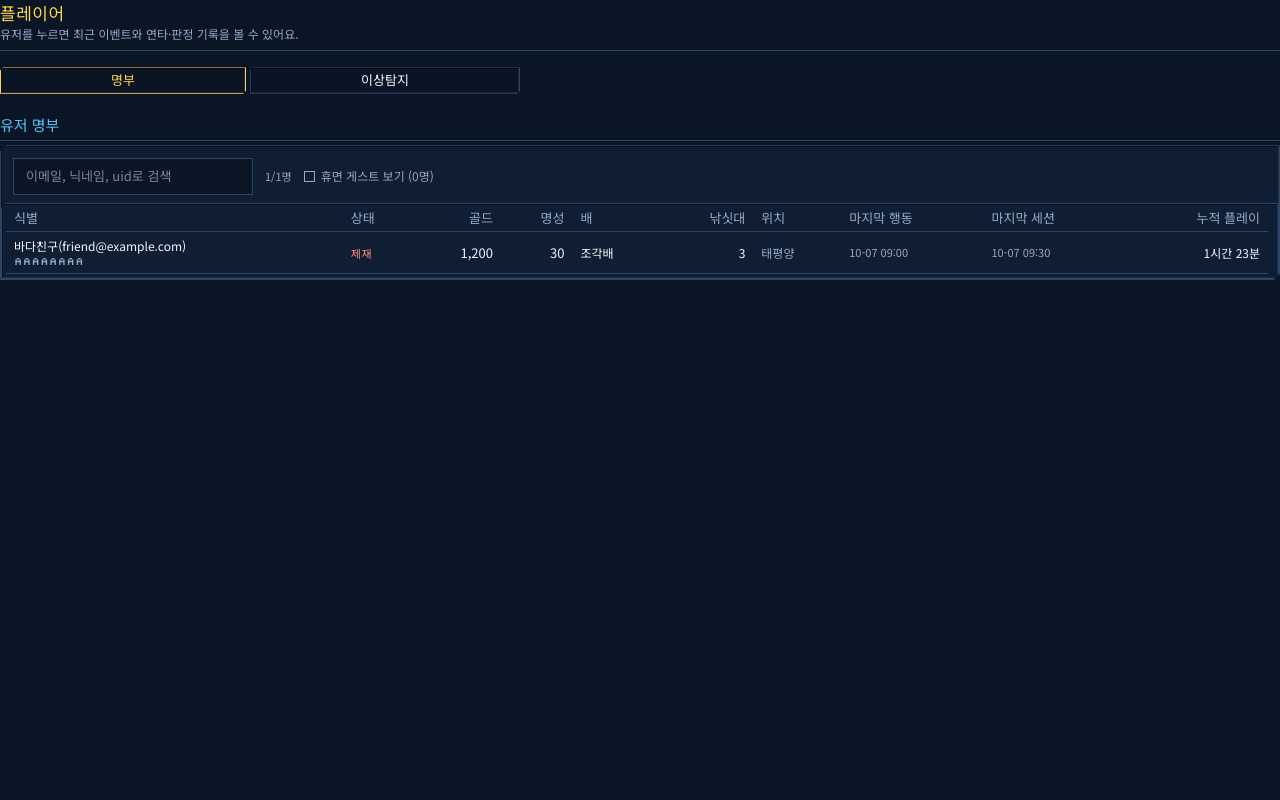
Test: 플레이어 탭 › 명부 구역 — 유저 행을 그리고, 누르면 상세 모달이 오목한 칸 밖에 뜬다
Expected: the text "1/1명" is shown, [265,168,292,185]
Expected: the text "태평양" is shown, [753,232,841,274]
What coordinates should you click on to do the following:
click the text "바다친구(friend@example.com)"
I would click on:
 (100, 246)
Its box is [14,238,186,254].
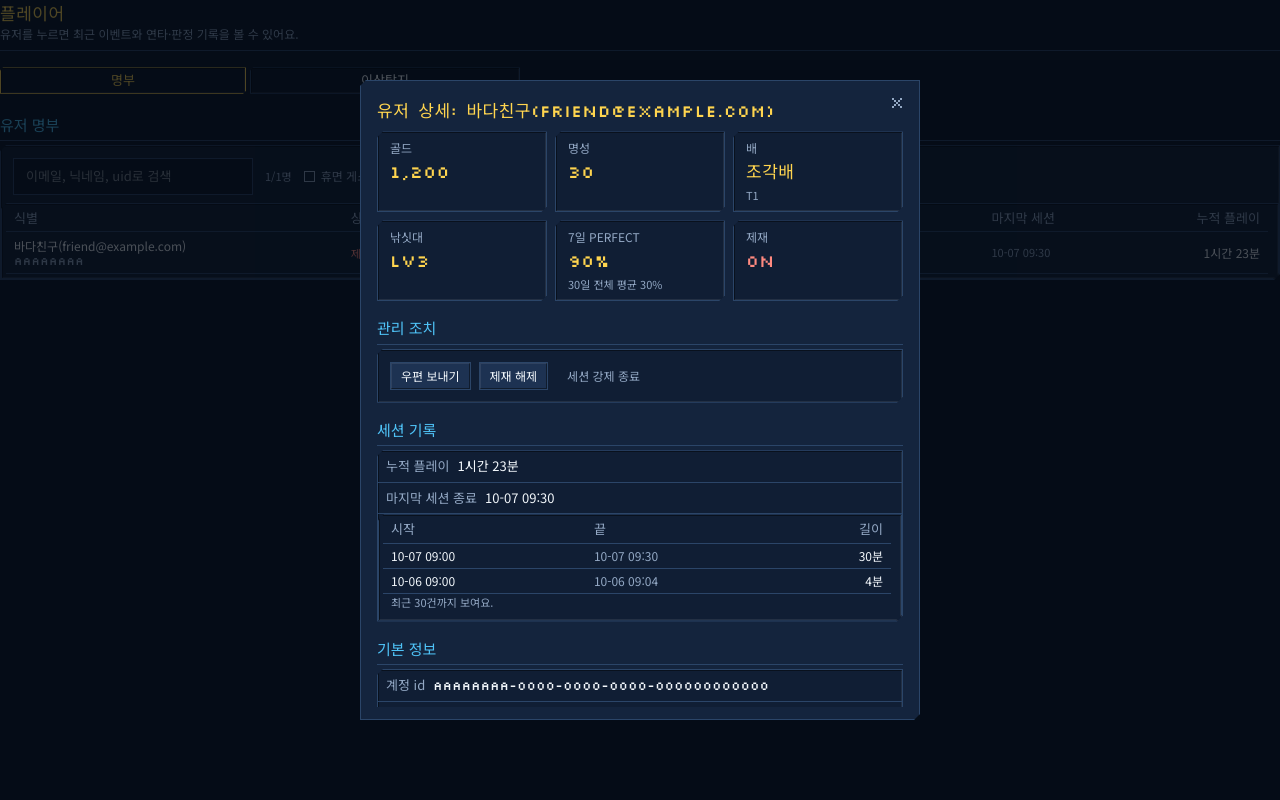
Result: the text "1시간 23분" is shown at [458,456,519,475]
Result: the text "30분" is shown at [789,543,891,568]
Result: the text "4분" is shown at [789,568,891,593]
